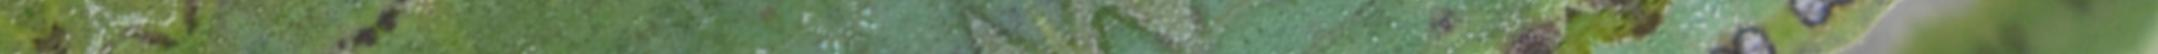Tomato leaf bacterial spot: (398, 0, 1502, 54)
